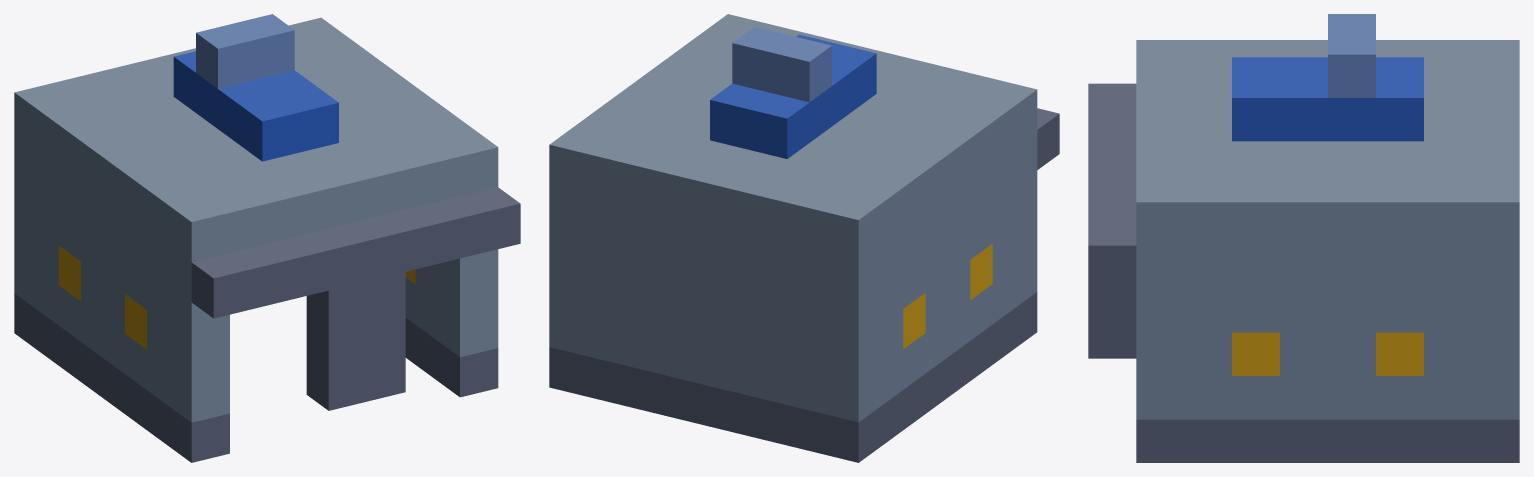
Rendered from Knight_Helm.glb.
3 views of the same model, side by side, from view 1: azimuth 30°, elevation 25°; view 2: azimuth 150°, elevation 25°; view 3: azimuth 270°, elevation 25° (orthographic). The views are drawn at different scales.
Visible parts, largest first — view 1: Knight_Helm; view 2: Knight_Helm; view 3: Knight_Helm.
Part boxes in pixels (x1,y1,x2,y2): Knight_Helm: (14, 14, 520, 462); Knight_Helm: (549, 14, 1059, 462); Knight_Helm: (1088, 14, 1519, 462).
Size of the model in its own units: 2 by 2 by 2.25.
